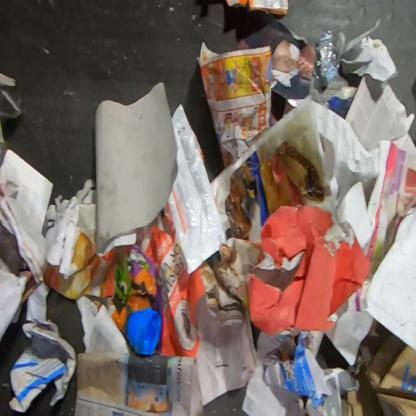cardboard: (246, 204, 372, 359), (8, 316, 77, 414), (341, 333, 415, 415)
rigid_plastic: (313, 29, 347, 95), (126, 306, 162, 356)
soft_plastic: (164, 102, 228, 275)
